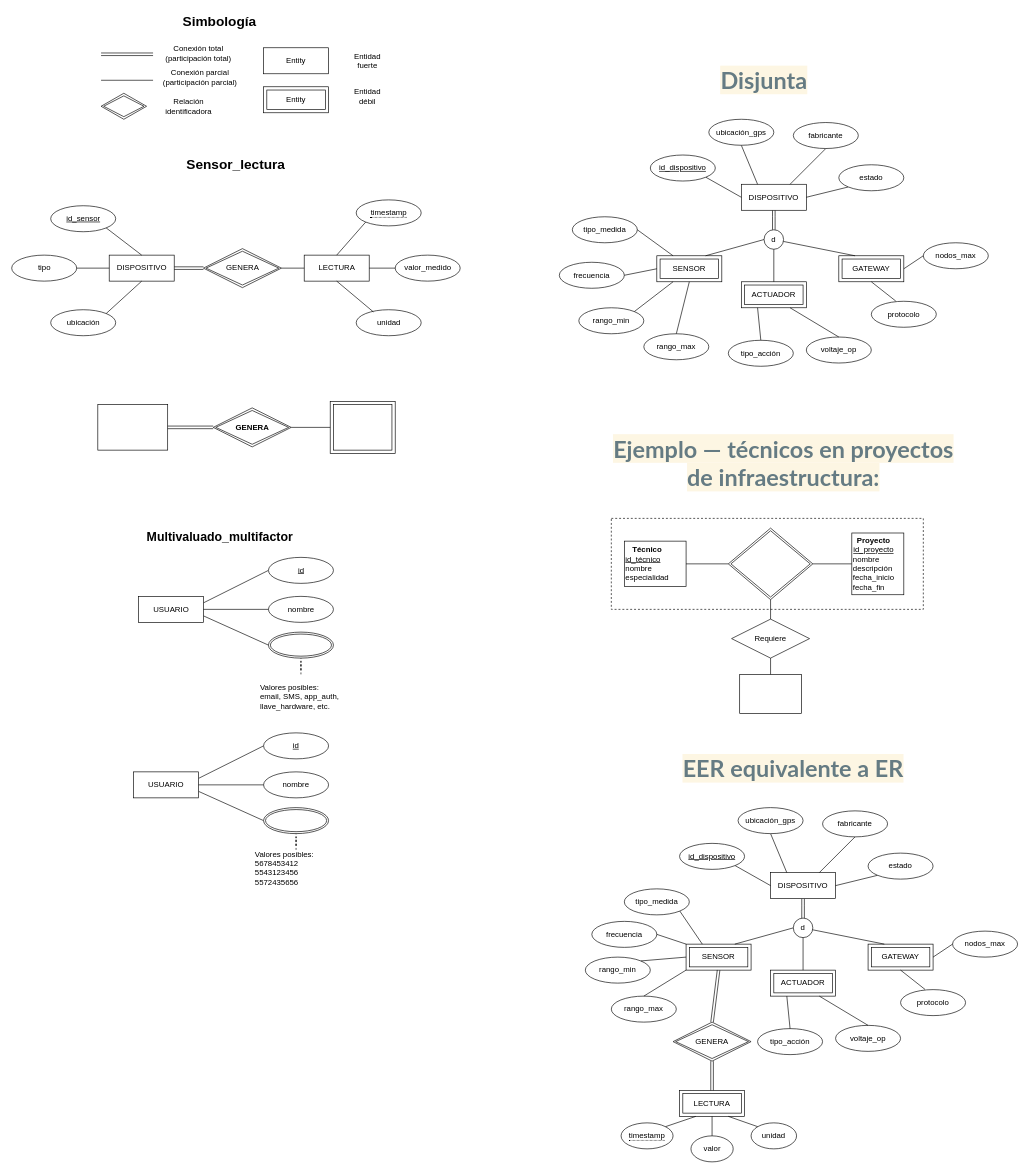
Image size: 1029x1173. Some labels were removed from this diagram. Here are the shapes that lost their labels. From the top down, the centre of each, then its label:
the point at 132,427: DISPOSITIVO id_sensor tipo ubicación
the point at 362,427: LECTURA timestamp valor_medido unidad
the point at 770,563: Trabaja en fecha_inicio horas_semanales rol
the point at 300,644: metodo_2FA
the point at 770,693: Equipo num_serie tipo_equipo
the point at 296,820: teléfono
